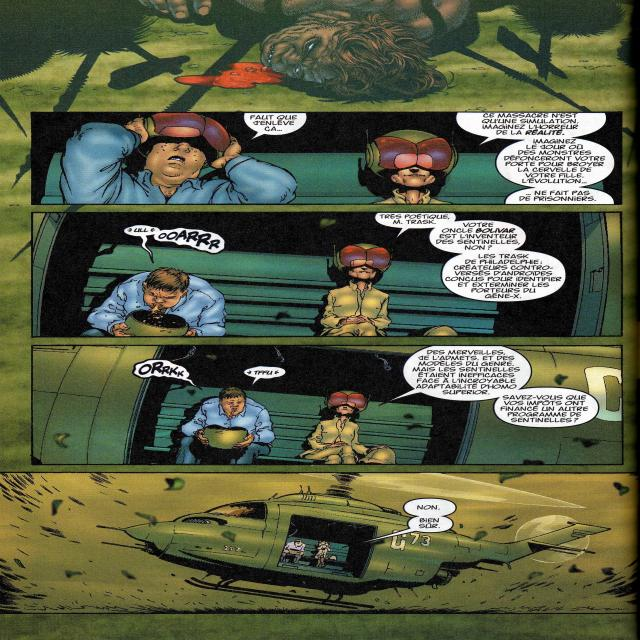comic_panel: (0, 471, 640, 640), (31, 211, 623, 337), (29, 344, 624, 465), (0, 0, 635, 110), (31, 112, 622, 204)
